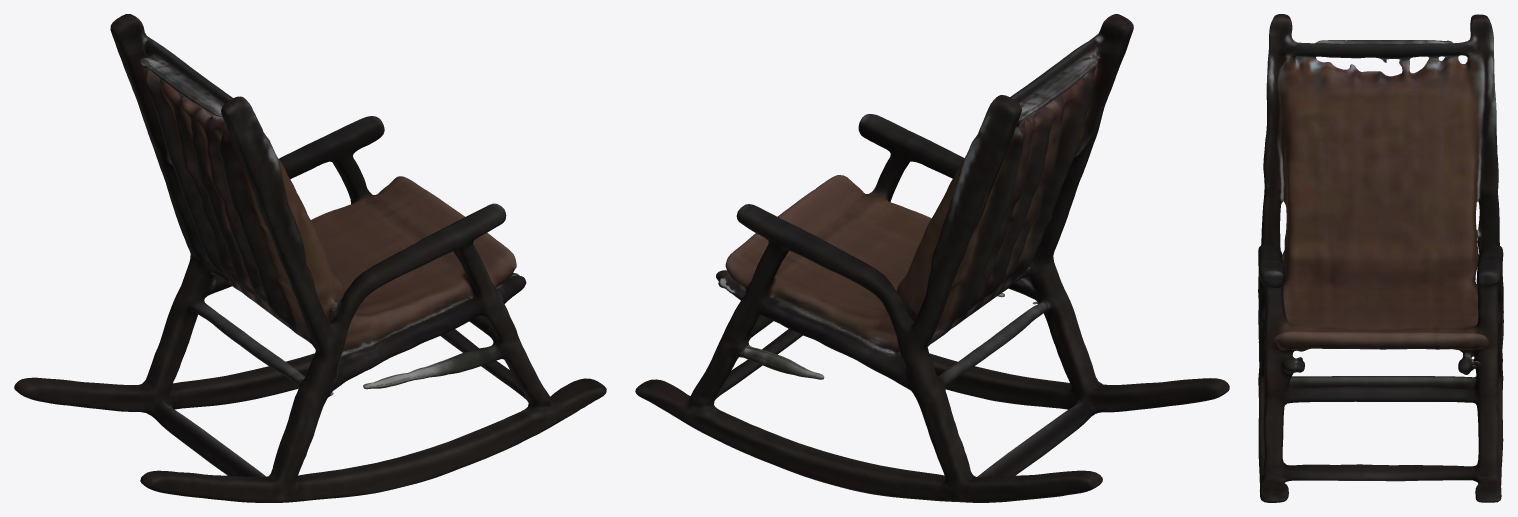
The model's file is b3871926d932_rocking_chair__3d_a.fbx.
3 renders of one model, left to right at view 1: azimuth 30°, elevation 25°; view 2: azimuth 150°, elevation 25°; view 3: azimuth 270°, elevation 25°, orthographic. The views are drawn at different scales.
Visible parts, largest first — view 1: high_poly; view 2: high_poly; view 3: high_poly.
Part boxes in pixels (x1=…): high_poly: x1=14, y1=14, x2=606, y2=502; high_poly: x1=635, y1=14, x2=1229, y2=502; high_poly: x1=1258, y1=14, x2=1503, y2=502.
Bounding box in the file's own units: 100 × 86.2 × 51.8.
